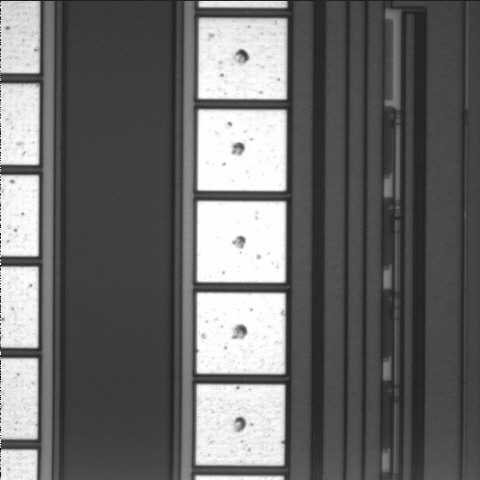pad: (197, 109, 286, 191), (197, 201, 286, 283), (196, 384, 285, 466), (198, 18, 287, 99), (197, 293, 285, 374)
